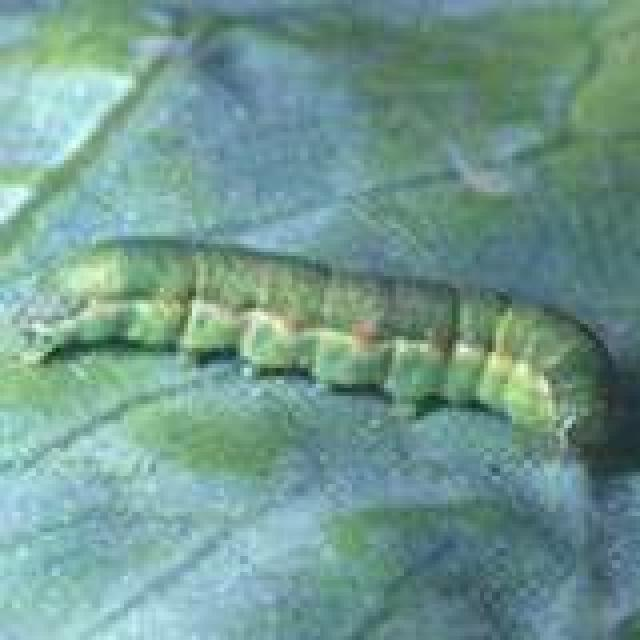BeetArmyWorm-Larva-: (19, 242, 626, 468)
